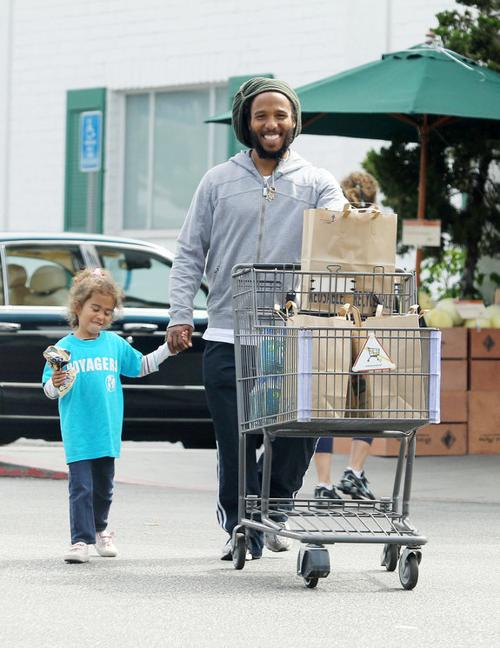person: (163, 76, 358, 564)
